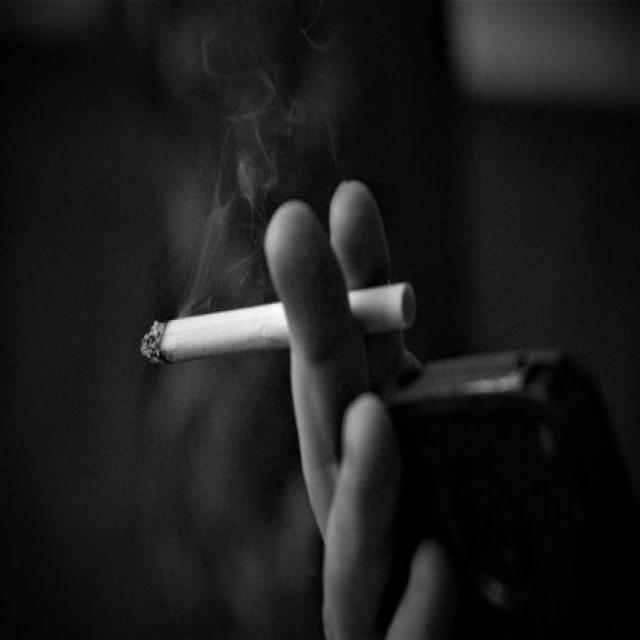Cigarette: (137, 277, 430, 364)
